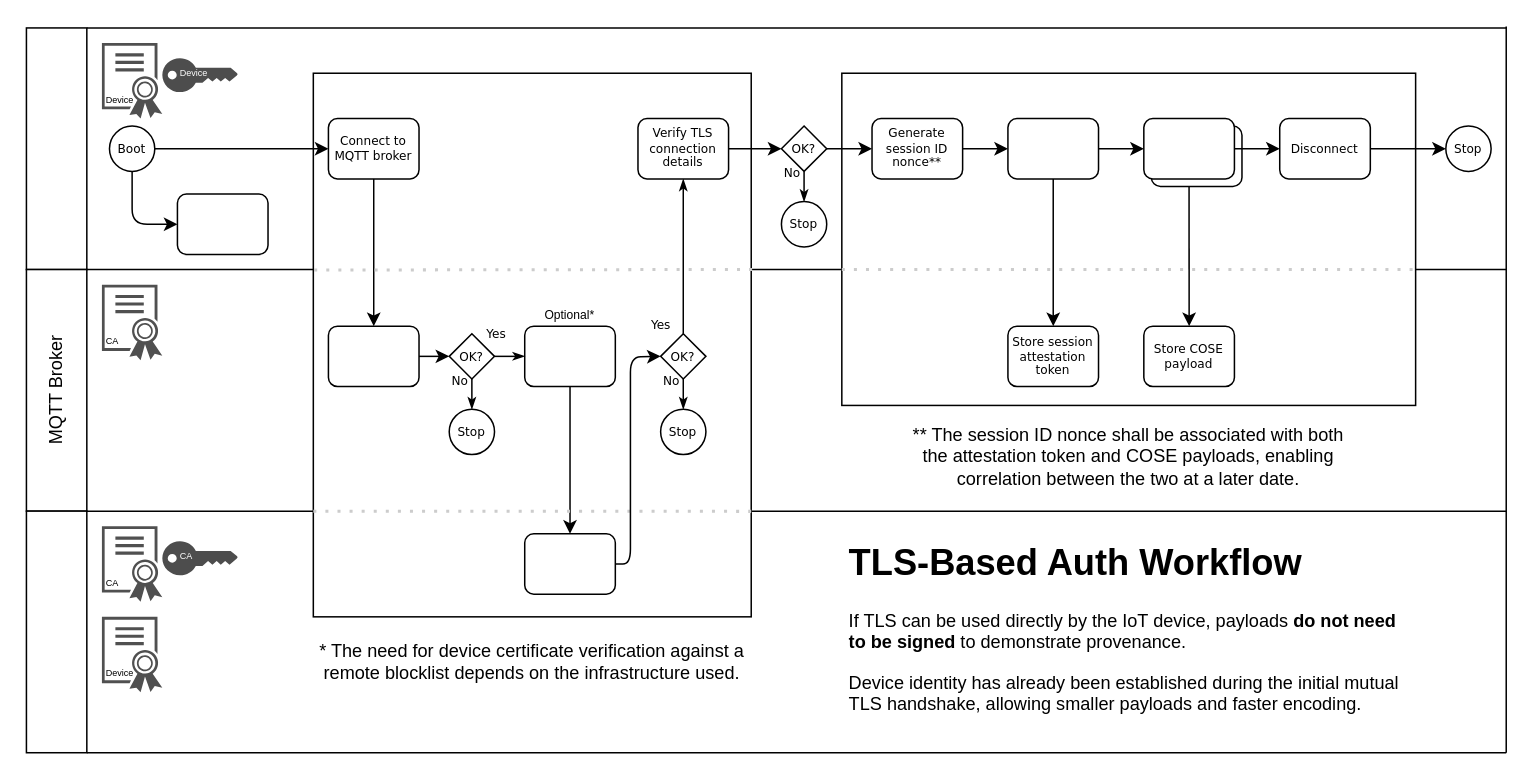
Some shapes in this 1534 by 781 pixel diagram are drawn without their labels. The box of each missing label's shape, as (x1, y1, x2, y2) in pixels:
Bootstrap Server: (25, 510, 87, 753)
Check blocklist: (523, 532, 615, 594)
Established TLS Connection: (840, 72, 1416, 405)
Generate AI attestation token: (176, 193, 268, 254)
IoT Device: (25, 26, 87, 270)
Mutual TLS Setup: (312, 72, 751, 617)
Transmit AI attestation token: (1006, 117, 1099, 179)
Transmit CBOR/COSE payload(s): (1142, 117, 1234, 179)
Verify client cert signature and UUID: (327, 325, 419, 387)
Verify device certificate validity: (523, 325, 615, 387)
